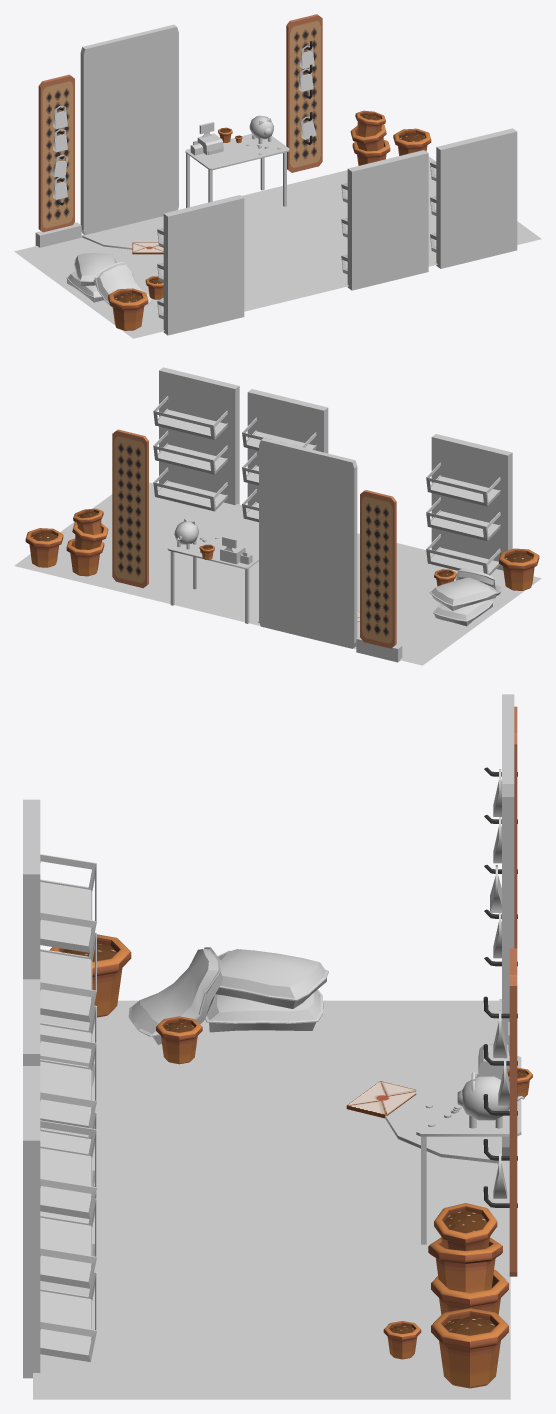
File: prueba.fbx
The picture shows the model from 3 angles, top to bottom: view 1: azimuth 30°, elevation 25°; view 2: azimuth 150°, elevation 25°; view 3: azimuth 270°, elevation 25°; orthographic projection. The views are drawn at different scales.
Parts seen in each view (by area): view 1: Plane001, Box011, Box010, Box019, Box023, Object, Semillero, Semillero001, Box001, Cylinder023, Pot_base006, Box014 (+9 smaller); view 2: Box011, Plane001, Box010, Box023, Semillero, Semillero001, Box019, Box015, Box016, Box025, Box024, Box017 (+14 smaller); view 3: Plane001, Box010, Box001, Box015, Pot_base003, Box024, Box016, Box011, Box014, Box020, Semillero, Box018 (+17 smaller).
Boxes of the visible parts, <box> form: Plane001: <box>14,156,541,338</box>; Box011: <box>80,24,178,234</box>; Box010: <box>436,128,517,268</box>; Box019: <box>347,150,428,290</box>; Box023: <box>163,195,244,335</box>; Object: <box>93,50,168,153</box>; Semillero: <box>286,14,322,172</box>; Semillero001: <box>38,74,74,232</box>; Box001: <box>185,133,289,170</box>; Cylinder023: <box>82,216,163,249</box>; Pot_base006: <box>108,288,148,330</box>; Box014: <box>93,262,152,307</box>; Box011: <box>259,438,357,648</box>; Plane001: <box>14,482,541,665</box>; Box010: <box>159,367,239,505</box>; Box023: <box>431,434,512,570</box>; Semillero: <box>112,429,148,588</box>; Semillero001: <box>360,490,396,648</box>; Box019: <box>247,389,328,505</box>; Box015: <box>429,577,497,610</box>; Box016: <box>153,396,227,439</box>; Box025: <box>426,497,500,541</box>; Box024: <box>426,462,500,506</box>; Box017: <box>153,431,227,474</box>; Plane001: <box>33,1000,510,1399</box>; Box010: <box>23,1066,40,1378</box>; Box001: <box>416,1055,521,1136</box>; Box015: <box>215,949,328,1008</box>; Pot_base003: <box>431,1308,508,1388</box>; Box024: <box>40,854,96,952</box>; Box016: <box>40,1120,96,1219</box>; Box011: <box>502,694,514,1155</box>; Box014: <box>128,947,222,1044</box>; Box020: <box>40,1034,96,1128</box>; Semillero: <box>483,948,517,1276</box>; Box018: <box>40,1272,96,1362</box>.
Size of the model in its own units: 414 by 219 by 180.
Materials: 3 (3 with a texture image).
